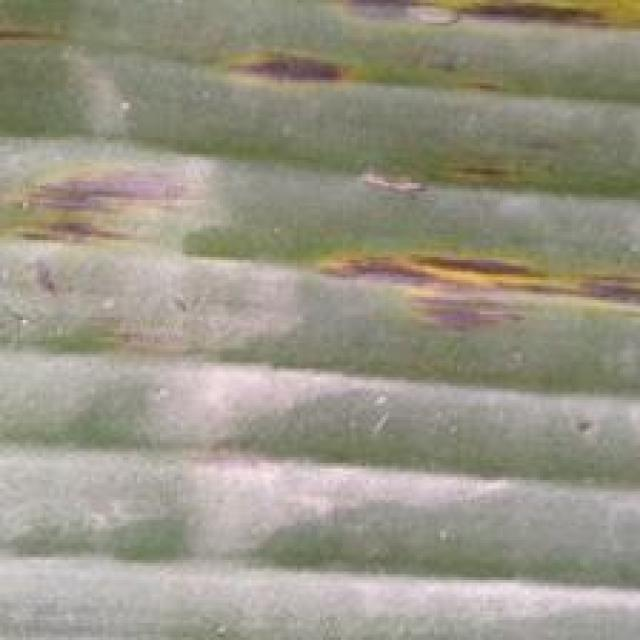Early_leaf_spot: (300, 226, 640, 342), (2, 143, 214, 297), (280, 0, 640, 66), (338, 132, 572, 212), (210, 28, 354, 110), (386, 65, 544, 112), (0, 8, 88, 61)
